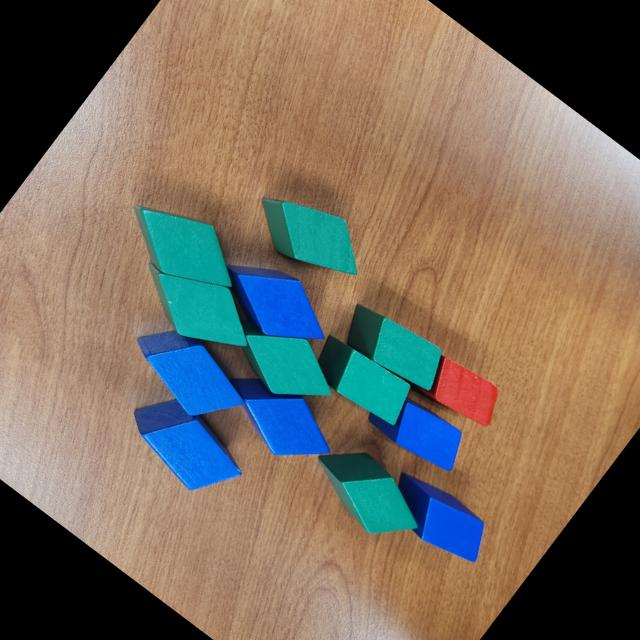blue: (115, 382, 257, 512), (206, 352, 348, 482), (204, 240, 344, 368), (120, 312, 258, 438), (375, 462, 500, 576), (363, 380, 474, 481)
green: (110, 180, 256, 312), (125, 241, 268, 372), (240, 172, 380, 300), (298, 431, 436, 556), (224, 306, 350, 424), (332, 292, 455, 402), (305, 328, 423, 434)
red: (414, 348, 512, 438)
